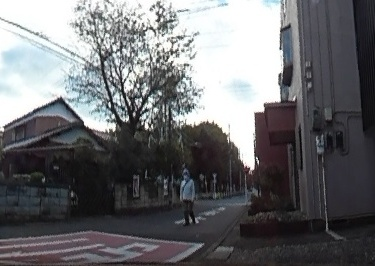person: (180, 167, 198, 224)
